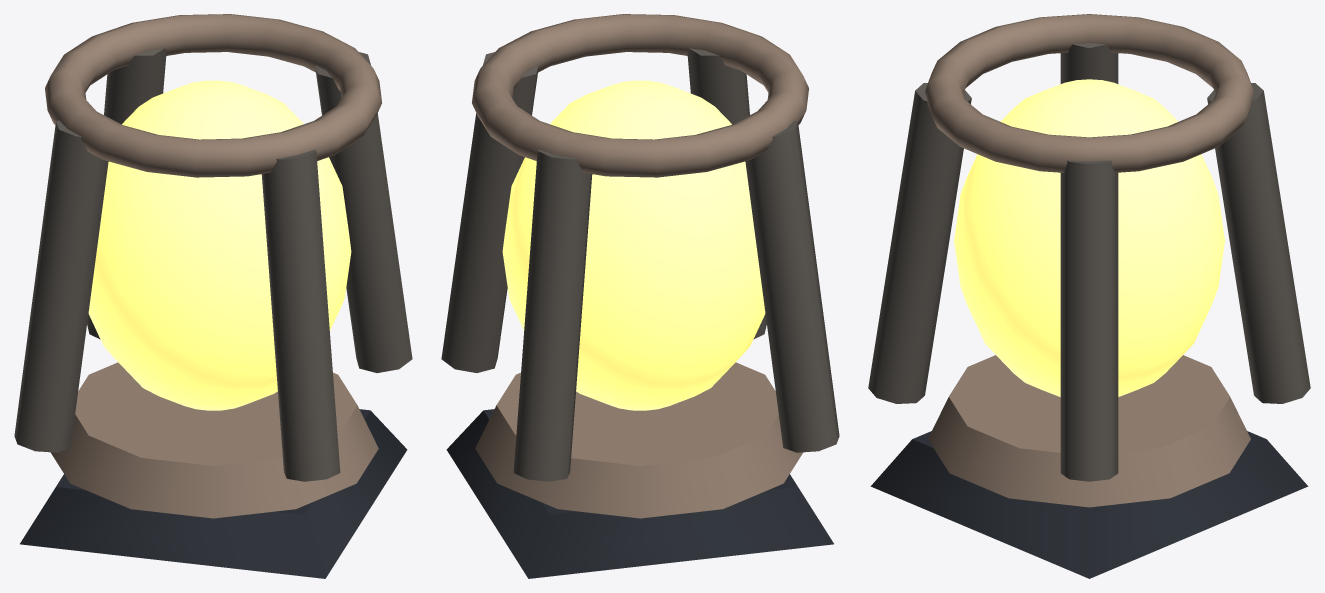
The model's file is compact_high_gravity--shield_emitter.glb.
3 renders of one model, left to right at view 1: azimuth 30°, elevation 25°; view 2: azimuth 150°, elevation 25°; view 3: azimuth 270°, elevation 25°, orthographic. The views are drawn at different scales.
Visible parts, largest first — view 1: shield_emitter_core_3, rotation_bearing_2, emitter_ring_8, mount_adapter_1, emitter_cage_5, emitter_cage_6, emitter_cage_4, emitter_cage_7; view 2: shield_emitter_core_3, rotation_bearing_2, emitter_ring_8, mount_adapter_1, emitter_cage_7, emitter_cage_6, emitter_cage_4, emitter_cage_5; view 3: shield_emitter_core_3, rotation_bearing_2, emitter_ring_8, mount_adapter_1, emitter_cage_4, emitter_cage_5, emitter_cage_7, emitter_cage_6.
Boxes of the visible parts, left/top/right/bottom form: shield_emitter_core_3: left=88, top=80, right=351, bottom=410; rotation_bearing_2: left=50, top=362, right=378, bottom=518; emitter_ring_8: left=45, top=14, right=381, bottom=177; mount_adapter_1: left=20, top=409, right=407, bottom=578; emitter_cage_5: left=261, top=149, right=340, bottom=481; emitter_cage_6: left=14, top=120, right=108, bottom=452; emitter_cage_4: left=315, top=52, right=412, bottom=372; emitter_cage_7: left=87, top=48, right=166, bottom=339; shield_emitter_core_3: left=502, top=80, right=765, bottom=410; rotation_bearing_2: left=475, top=362, right=803, bottom=518; emitter_ring_8: left=472, top=14, right=808, bottom=177; mount_adapter_1: left=446, top=409, right=833, bottom=578; emitter_cage_7: left=513, top=149, right=592, bottom=481; emitter_cage_6: left=745, top=120, right=839, bottom=452; emitter_cage_4: left=441, top=52, right=538, bottom=372; emitter_cage_5: left=687, top=48, right=766, bottom=339; shield_emitter_core_3: left=954, top=79, right=1224, bottom=396; rotation_bearing_2: left=928, top=355, right=1250, bottom=507; emitter_ring_8: left=925, top=14, right=1253, bottom=172; mount_adapter_1: left=870, top=431, right=1308, bottom=578; emitter_cage_4: left=1060, top=160, right=1118, bottom=481; emitter_cage_5: left=868, top=83, right=971, bottom=403; emitter_cage_7: left=1207, top=83, right=1310, bottom=403; emitter_cage_6: left=1060, top=43, right=1118, bottom=83.
Bounding box in the file's own units: 10.19 × 10.42 × 10.19.
